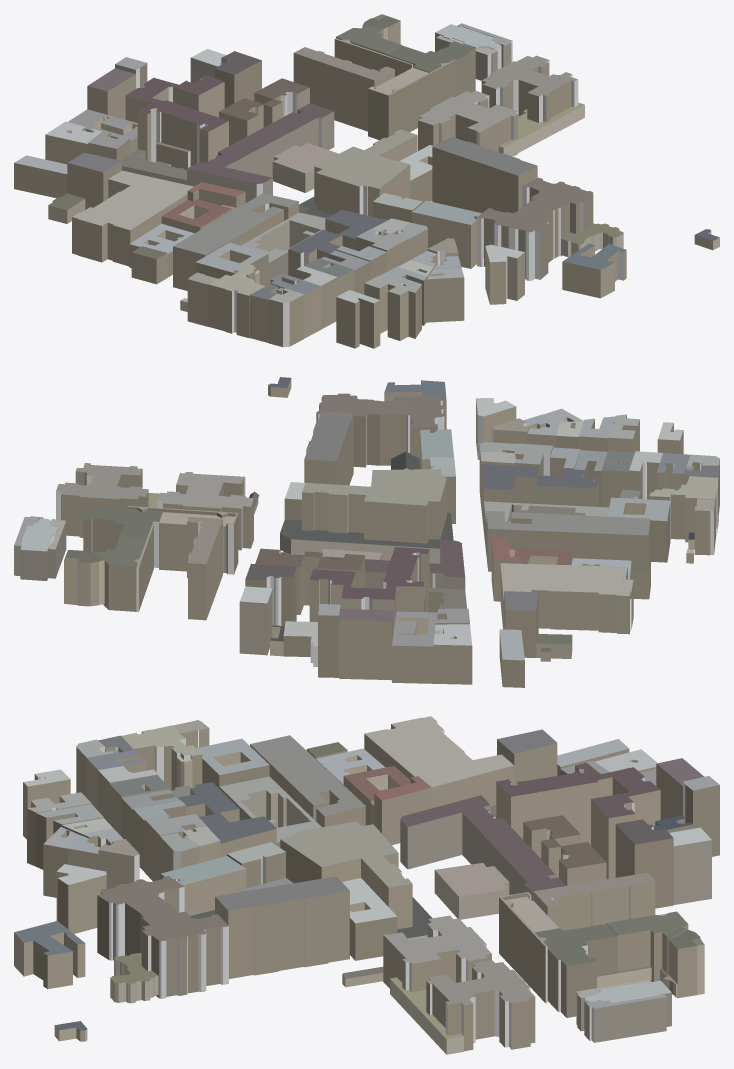
3 renders of one model, top to bottom at view 1: azimuth 30°, elevation 25°; view 2: azimuth 150°, elevation 25°; view 3: azimuth 270°, elevation 25°, orthographic. The views are drawn at different scales.
Visible parts, largest first — view 1: tuile; view 2: tuile; view 3: tuile.
Boxes of the visible parts, x1,y1,x2,y2 form: tuile: (14, 14, 719, 348); tuile: (14, 377, 719, 687); tuile: (14, 716, 719, 1054).
Size of the model in its own units: 272 by 33.86 by 270.
